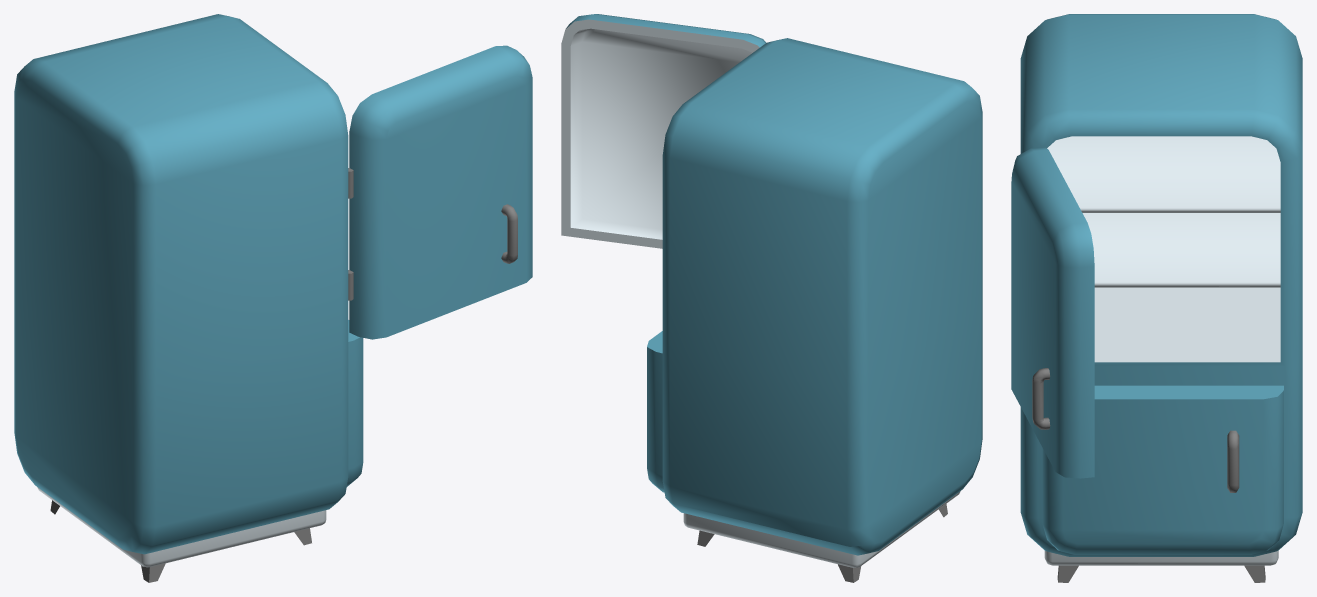
Rendered from Fridge_FIX.fbx.
The picture shows the model from 3 angles, left to right: view 1: azimuth 30°, elevation 25°; view 2: azimuth 150°, elevation 25°; view 3: azimuth 270°, elevation 25°; orthographic projection. The views are drawn at different scales.
Visible parts, largest first — view 1: Cube.002, Cube.010, Cube.009, Cube.004, Circle.004; view 2: Cube.002, Cube.010, Cube.009, Cube.004, Plane; view 3: Cube.002, Cube.004, Cube.011, Cube.010, Cube.009, Circle.004, Circle.003, Plane.
Part boxes in pixels (x1,y1,x2,y2): Cube.002: [14, 14, 348, 554]; Cube.010: [349, 45, 532, 339]; Cube.009: [37, 487, 326, 567]; Cube.004: [346, 320, 363, 486]; Circle.004: [501, 204, 517, 263]; Cube.002: [662, 38, 982, 555]; Cube.010: [561, 14, 766, 248]; Cube.009: [683, 491, 960, 567]; Cube.004: [647, 331, 664, 492]; Plane: [697, 504, 947, 582]; Cube.002: [1020, 14, 1302, 556]; Cube.004: [1042, 385, 1283, 554]; Cube.011: [1047, 136, 1280, 287]; Cube.010: [1011, 147, 1094, 478]; Cube.009: [1044, 550, 1278, 565]; Circle.004: [1032, 368, 1050, 429]; Circle.003: [1227, 430, 1239, 492]; Plane: [1057, 565, 1265, 582].
Size of the model in its own units: 312 by 328 by 181.
Materials: 1 (1 with a texture image).
